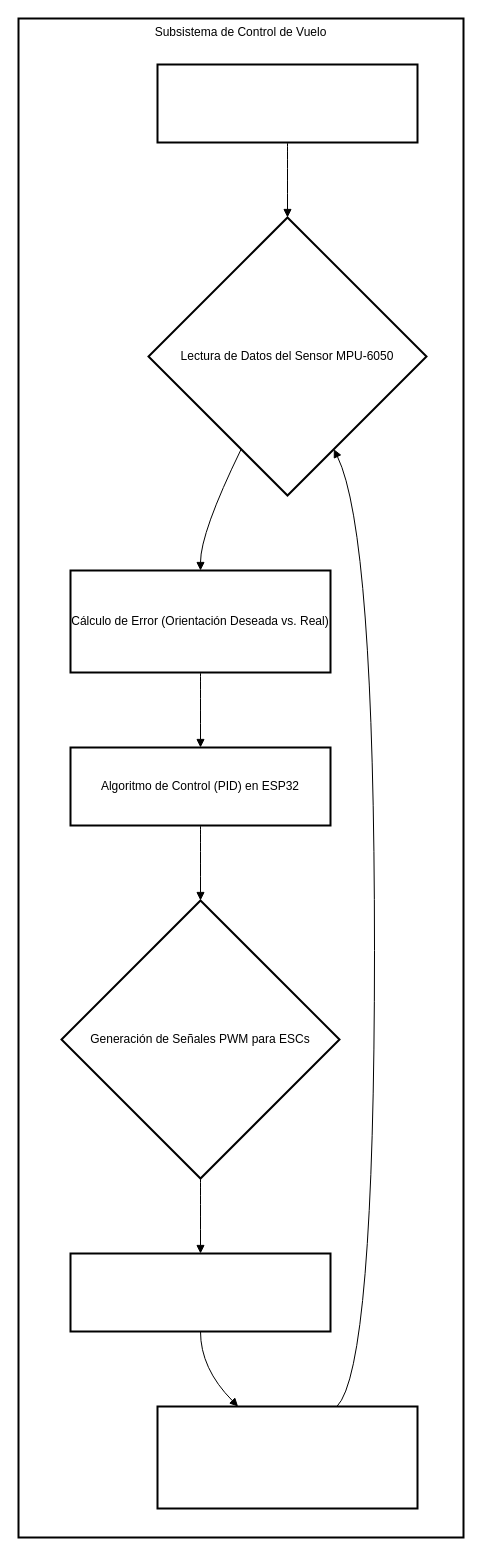
This 481x1555 diagram has some shape labels left out. The shapes that lost their labels are listed below. From the top down, each one's centre as x and y in pixels, then its label:
At [287,103]: "Inicio: Recepción de Comando del Operador".
At [200,1292]: "Ajuste de Velocidad de Motores".
At [287,1457]: "Cambio en la Propulsión/Orientación del Dron".
